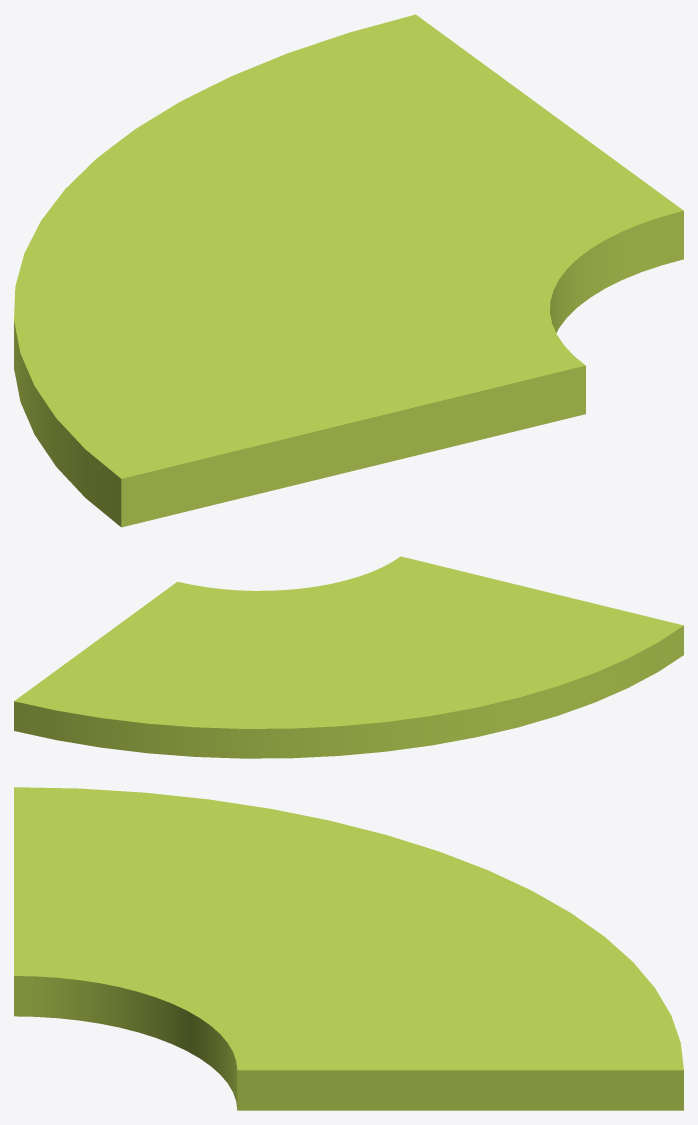
File: tile_curve04.obj
3 renders of one model, top to bottom at view 1: azimuth 30°, elevation 25°; view 2: azimuth 150°, elevation 25°; view 3: azimuth 270°, elevation 25°, orthographic. The views are drawn at different scales.
Parts seen in each view (by area): view 1: aCurveTile004; view 2: aCurveTile004; view 3: aCurveTile004.
Part boxes in pixels (bbox=[...]): aCurveTile004: bbox=[14, 14, 683, 527]; aCurveTile004: bbox=[14, 556, 683, 758]; aCurveTile004: bbox=[14, 787, 683, 1110].
Bounding box in the file's own units: 75 × 5 × 75.
